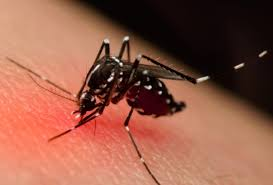dengue_mosquito: (23, 35, 202, 127)
